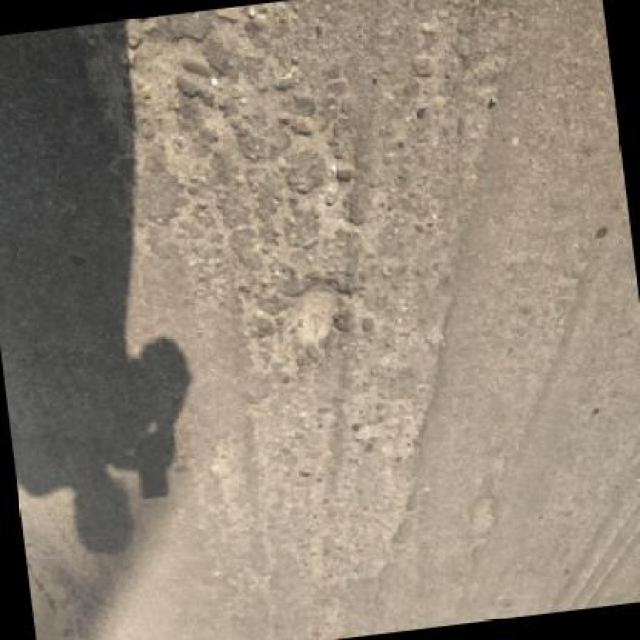pothole: (266, 274, 357, 358)
